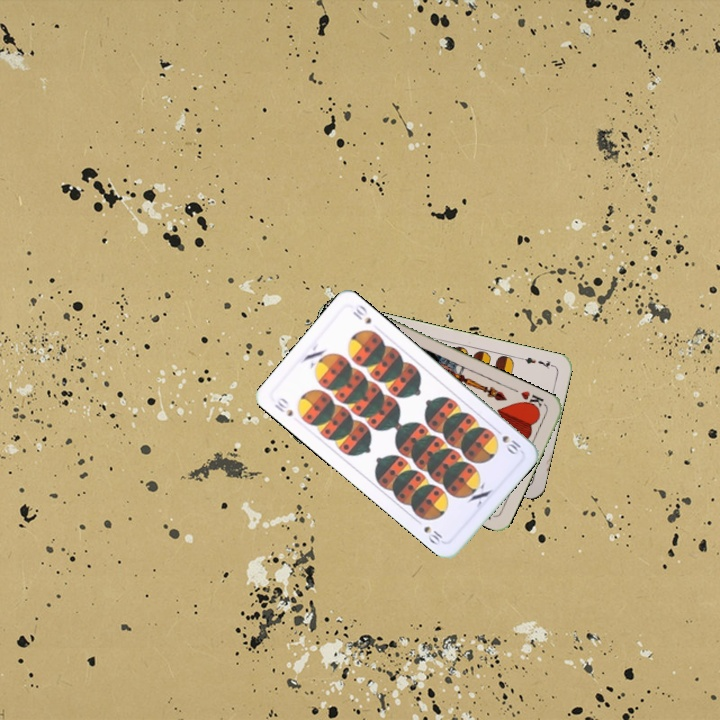E7: (517, 353, 557, 371)
HK: (517, 387, 548, 413)
S10: (491, 424, 523, 457), (270, 393, 296, 419)
